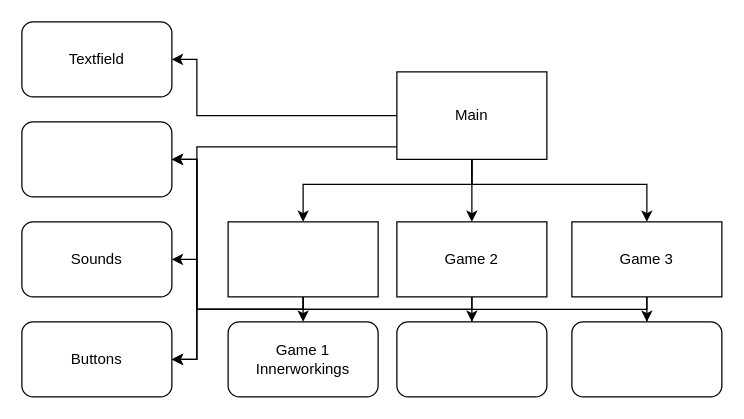
This 744x419 diagram has some shape labels left out. Each missing label, with the centre of its shape:
"Game 1" belongs at (302,259).
"Game 2 Innerworkings" belongs at (471,359).
"Game 3 Innerworkings" belongs at (646,359).
"PImage" belongs at (96,159).
